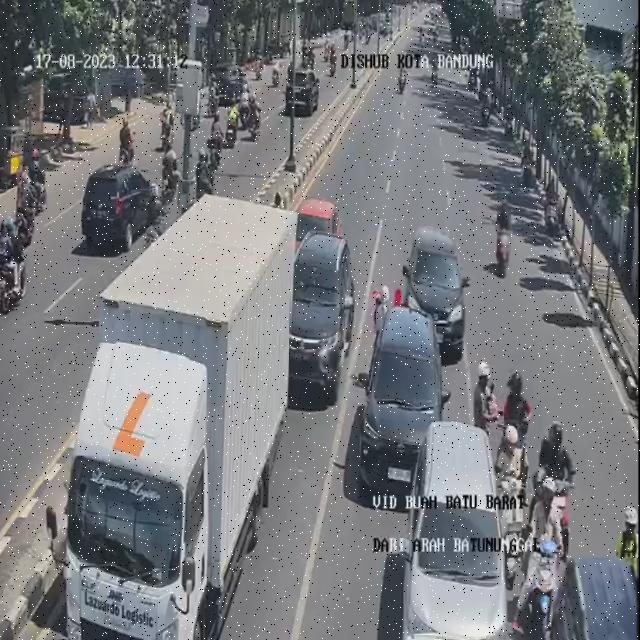cars: (374, 421, 508, 638), (361, 307, 451, 498), (289, 230, 355, 404), (291, 199, 355, 349), (403, 226, 471, 361), (553, 559, 639, 639)
motorcycle: (514, 480, 567, 638), (541, 422, 576, 527), (496, 426, 529, 536), (505, 373, 534, 489), (497, 197, 511, 277)
truck: (61, 194, 295, 640)
